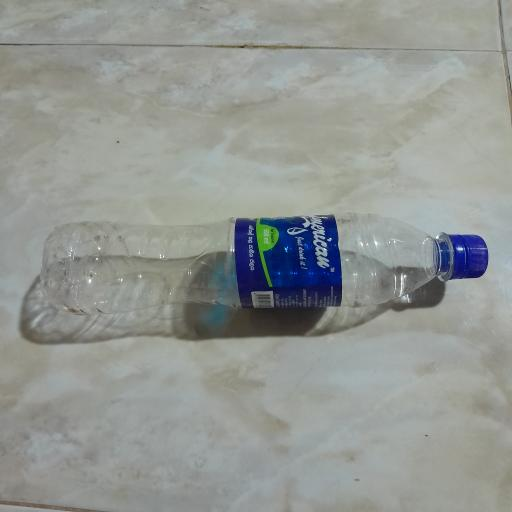waste: (28, 200, 494, 324)
